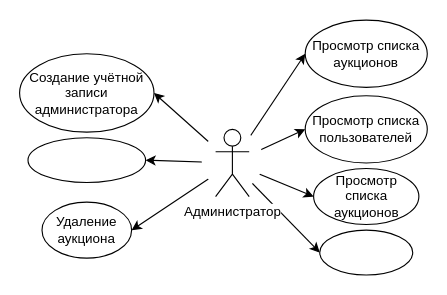
Image size: 447x295. Some labels were removed from this diagram. The shapes that lost their labels are listed below. From the top down, each one's centre as x and y in pixels, then its label:
At pixel 86 160: "Блокировка пользователя".
At pixel 366 252: "Просмотр аукциона".
